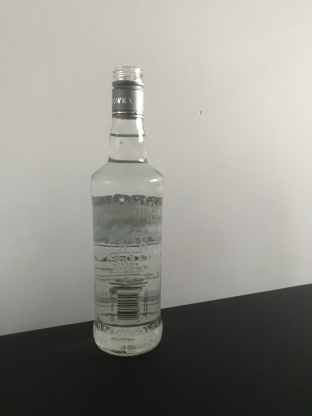nakretka: (109, 62, 145, 119)
